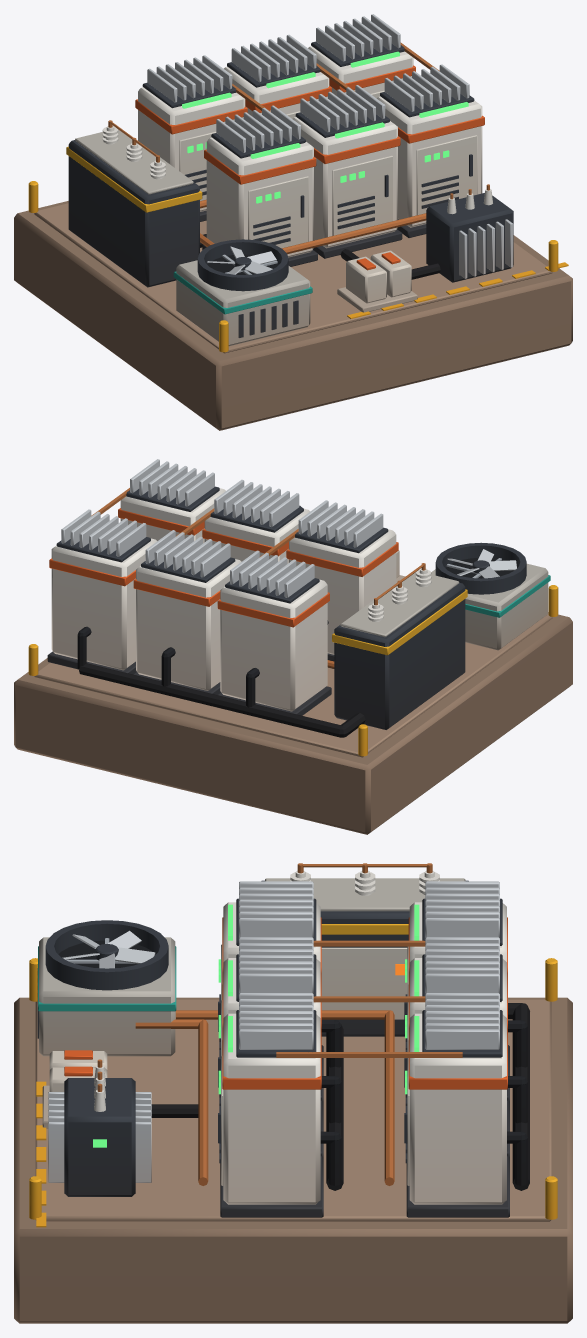
Rendered from battery_bank.glb.
3 renders of one model, top to bottom at view 1: azimuth 30°, elevation 25°; view 2: azimuth 150°, elevation 25°; view 3: azimuth 270°, elevation 25°, orthographic. The views are drawn at different scales.
Visible parts, largest first — view 1: battery_bank, spin_fan; view 2: battery_bank, spin_fan; view 3: battery_bank, spin_fan.
Boxes of the visible parts, x1,y1,x2,y2 form: battery_bank: [14, 14, 572, 430]; spin_fan: [207, 246, 276, 274]; battery_bank: [14, 459, 572, 834]; spin_fan: [447, 549, 516, 578]; battery_bank: [14, 863, 572, 1323]; spin_fan: [62, 930, 155, 968].
Size of the model in its own units: 3.92 by 2.16 by 3.9.
